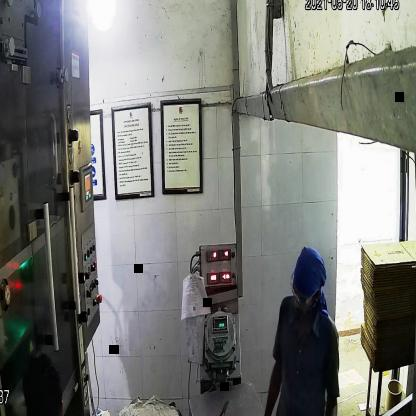goggles: (288, 272, 322, 306)
